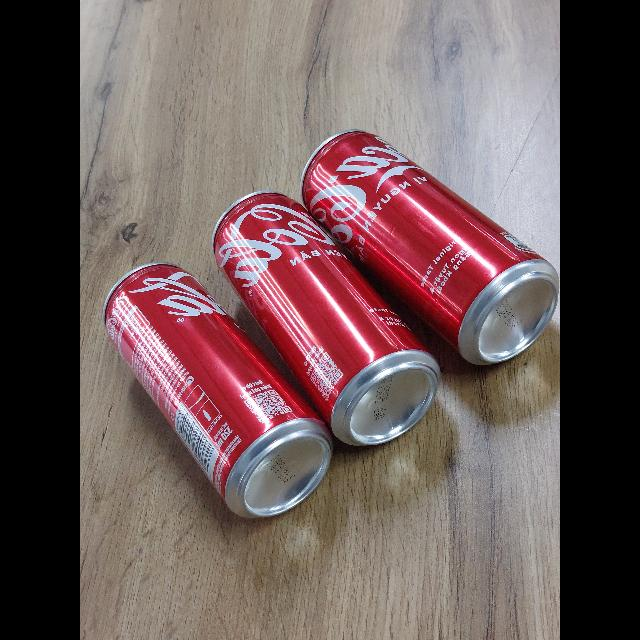coca_cola: (301, 131, 558, 369), (103, 263, 333, 521), (213, 193, 441, 449)
